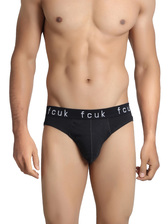clothoes: (41, 104, 139, 165)
